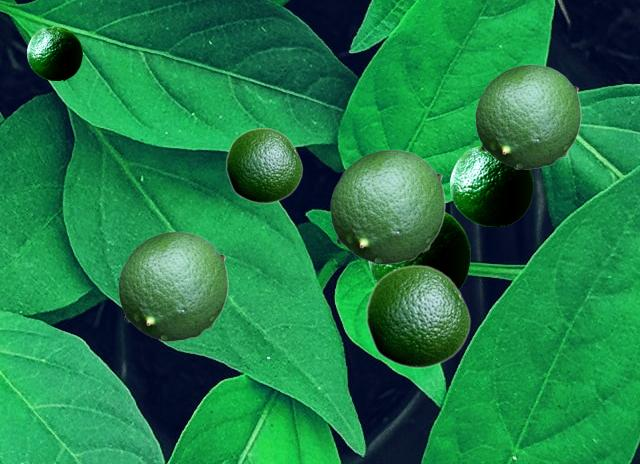calamansi: (330, 149, 444, 263), (118, 231, 227, 340), (365, 264, 470, 368), (475, 64, 580, 168), (368, 211, 469, 289), (450, 146, 532, 225), (225, 127, 302, 203), (27, 26, 81, 79)
